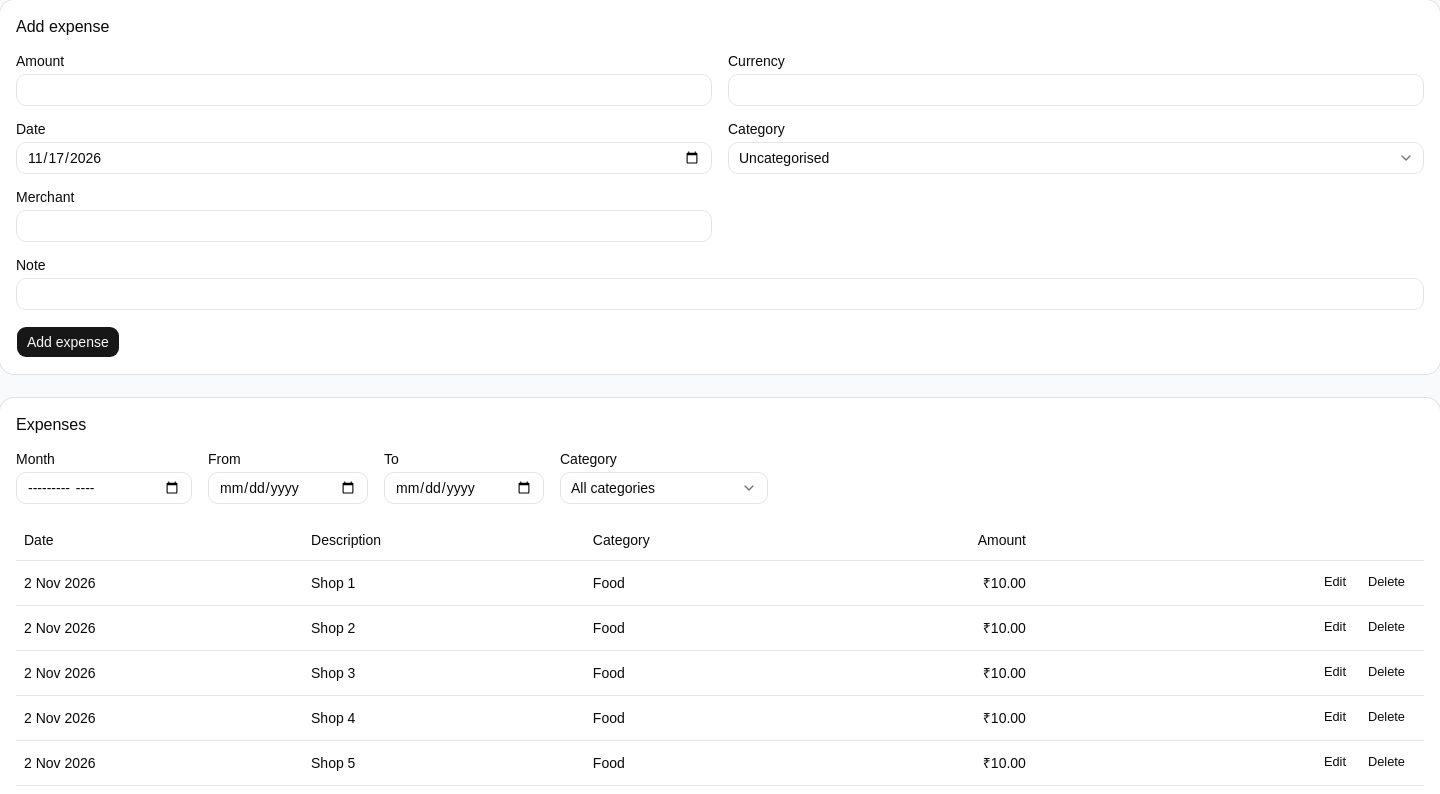
Test: picking a month fills From and To with its first and last day
This screenshot has width=1440, height=794.
Expected: the text "Shop 1" is shown, [303,560,585,605]
In the field labelled "Month": (104, 488) [16,472,192,504], type "2026-02"
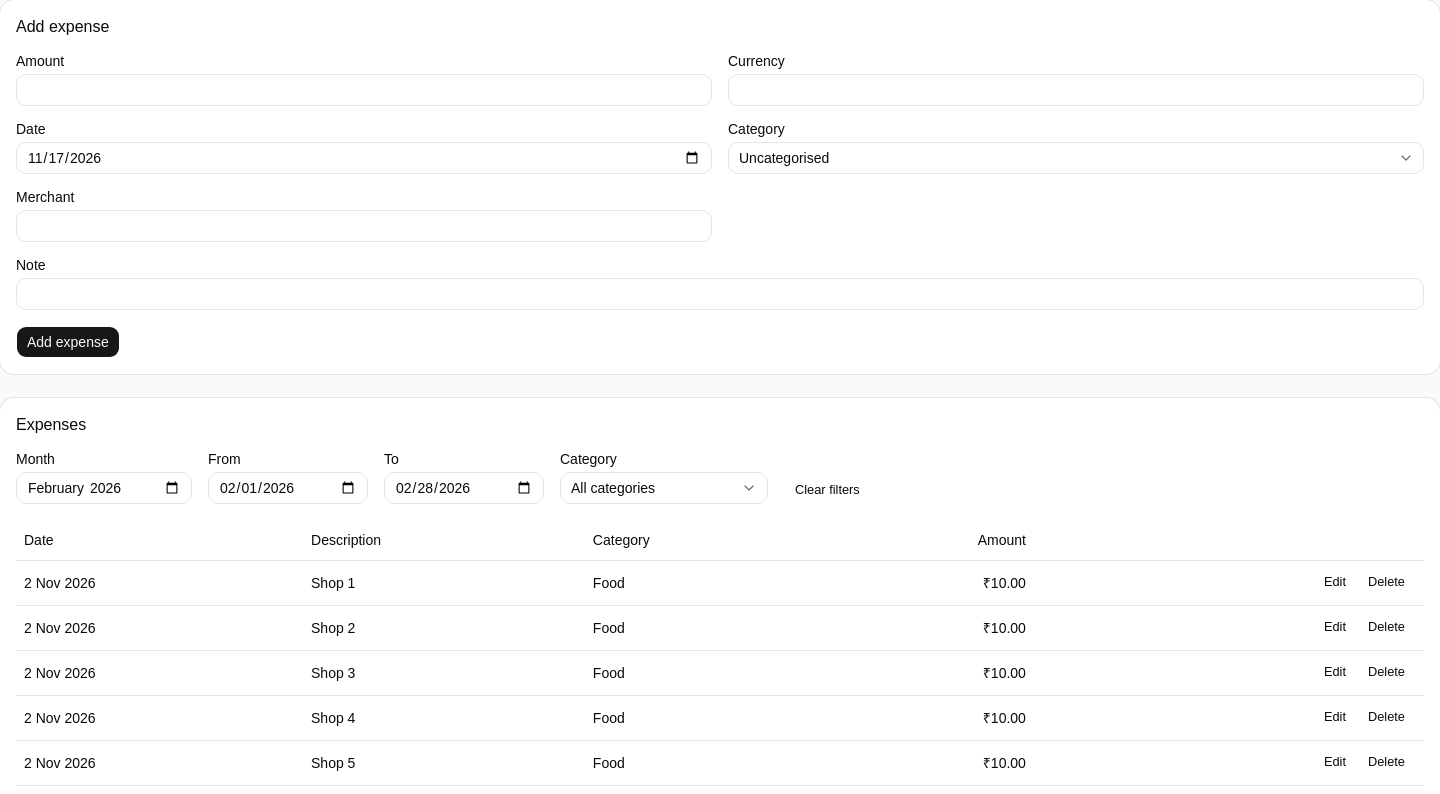
Expected: the date field labelled "From" holds "2026-02-01", [208,472,368,504]
Expected: the date field labelled "To" holds "2026-02-28", [384,472,544,504]
